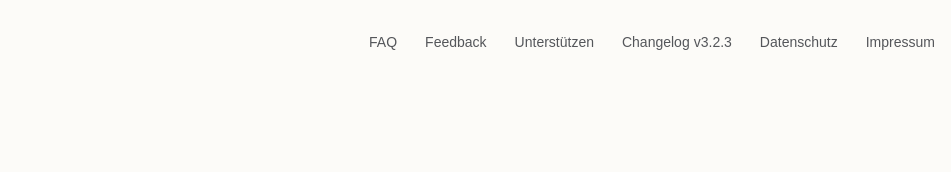
Test case: Footer links › opens a page with the way back
What coordinates should you click on to do the following:
click the link "FAQ"
I would click on:
 (383, 42)
Its box is [369, 34, 397, 50].
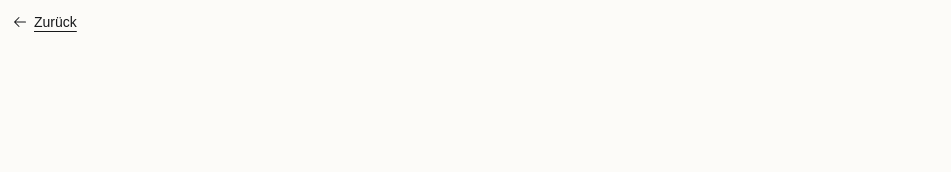
Expected: the button "Zurück" is shown, [12, 12, 77, 32]
